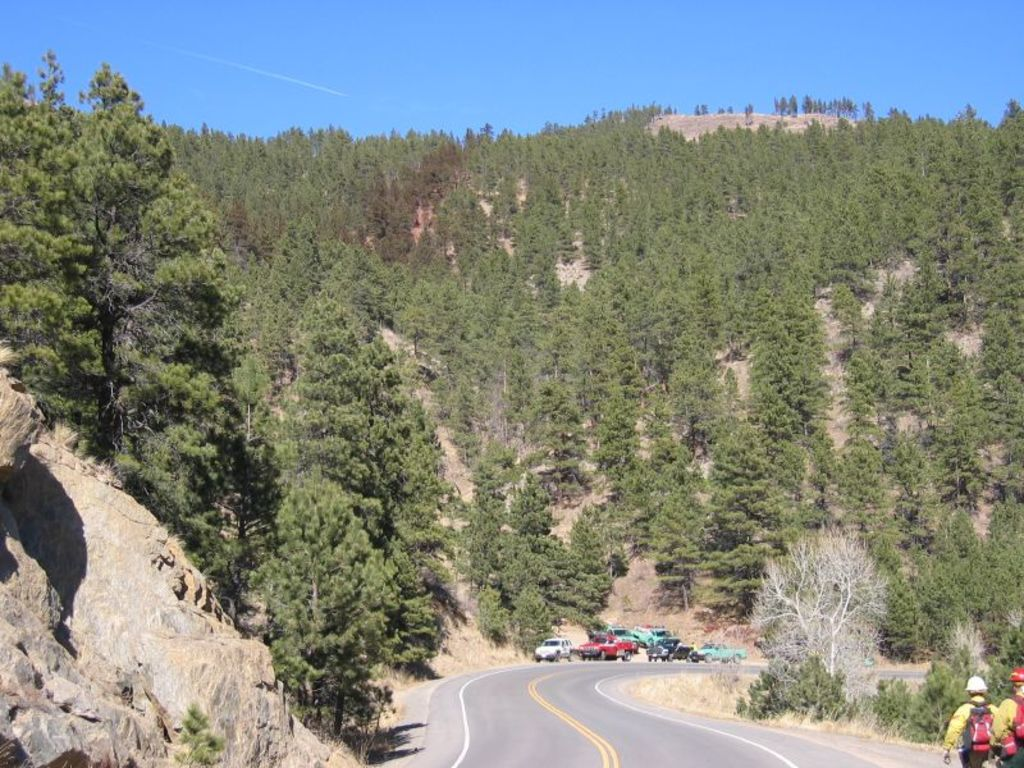Tree: (0, 47, 1022, 755), (743, 505, 901, 707)
